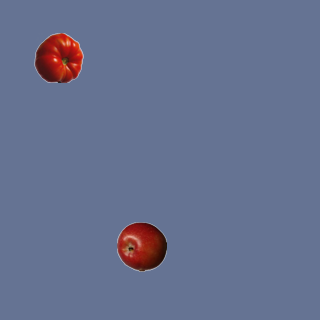Apple Braeburn: (116, 221, 166, 271)
Tomato 3: (33, 32, 83, 82)
